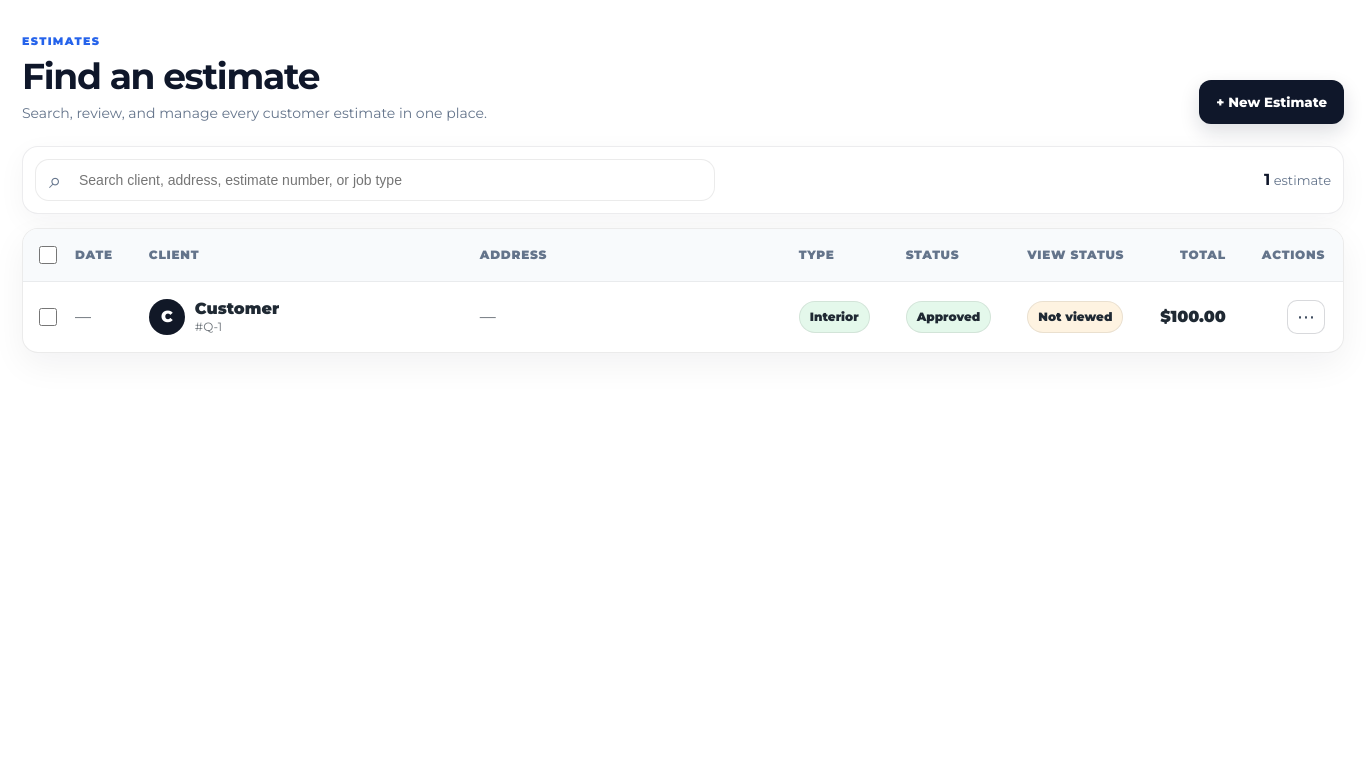
successful forwarding opens a confirmation showing the destination
Step 1. Click the checkbox named "Select all estimates shown" → (48, 255), box [39,246,57,264]
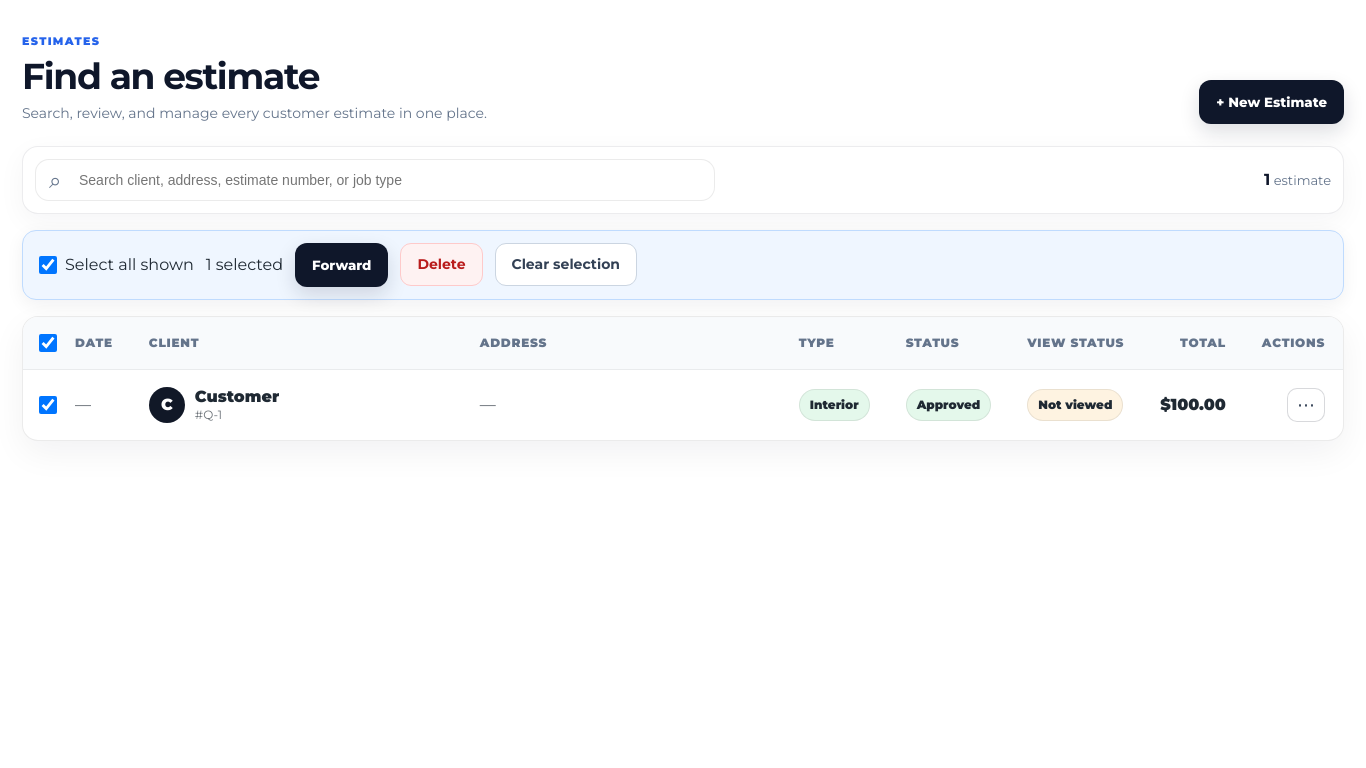
Step 2. Click the button "Forward" → (342, 265), box [295,243,388,287]
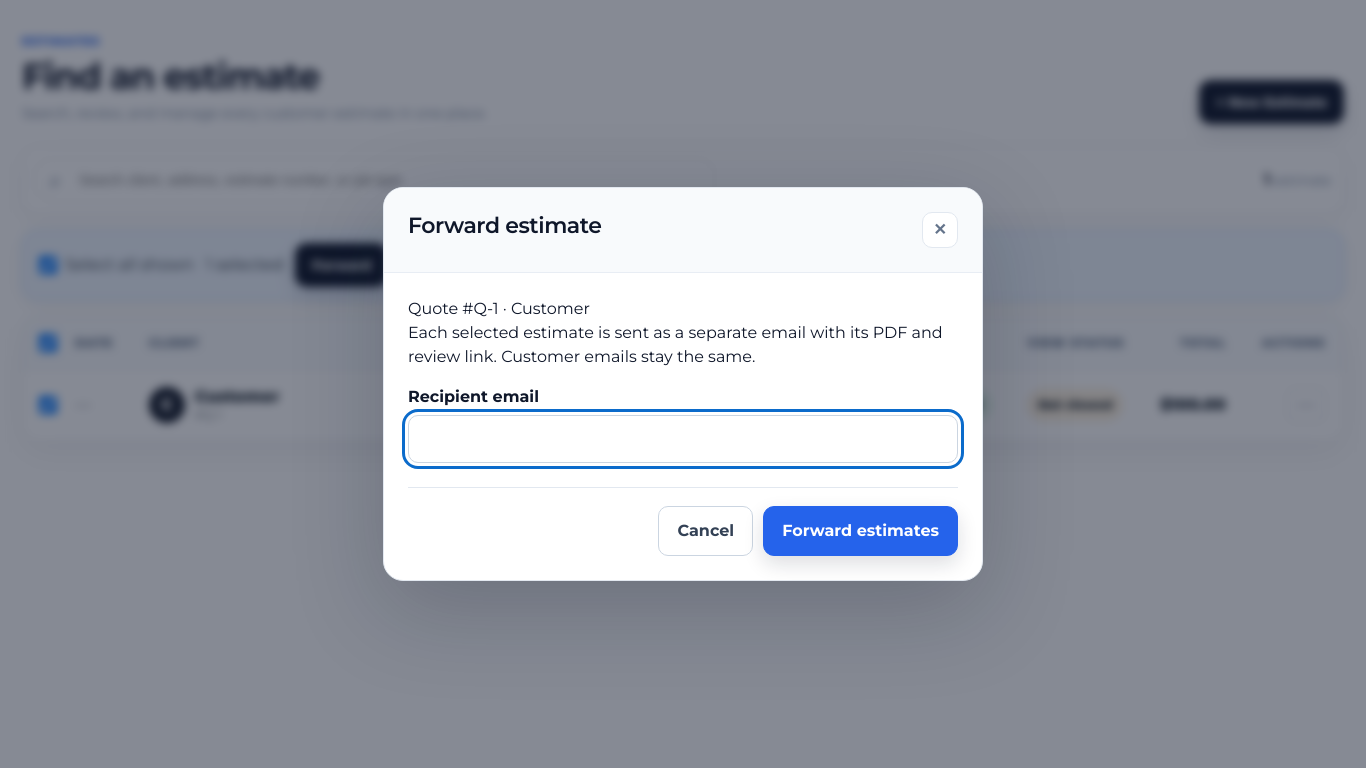
Step 3. Type "other@example.com" into the field labelled "Recipient email" → (683, 439), box [408,415,958,463]
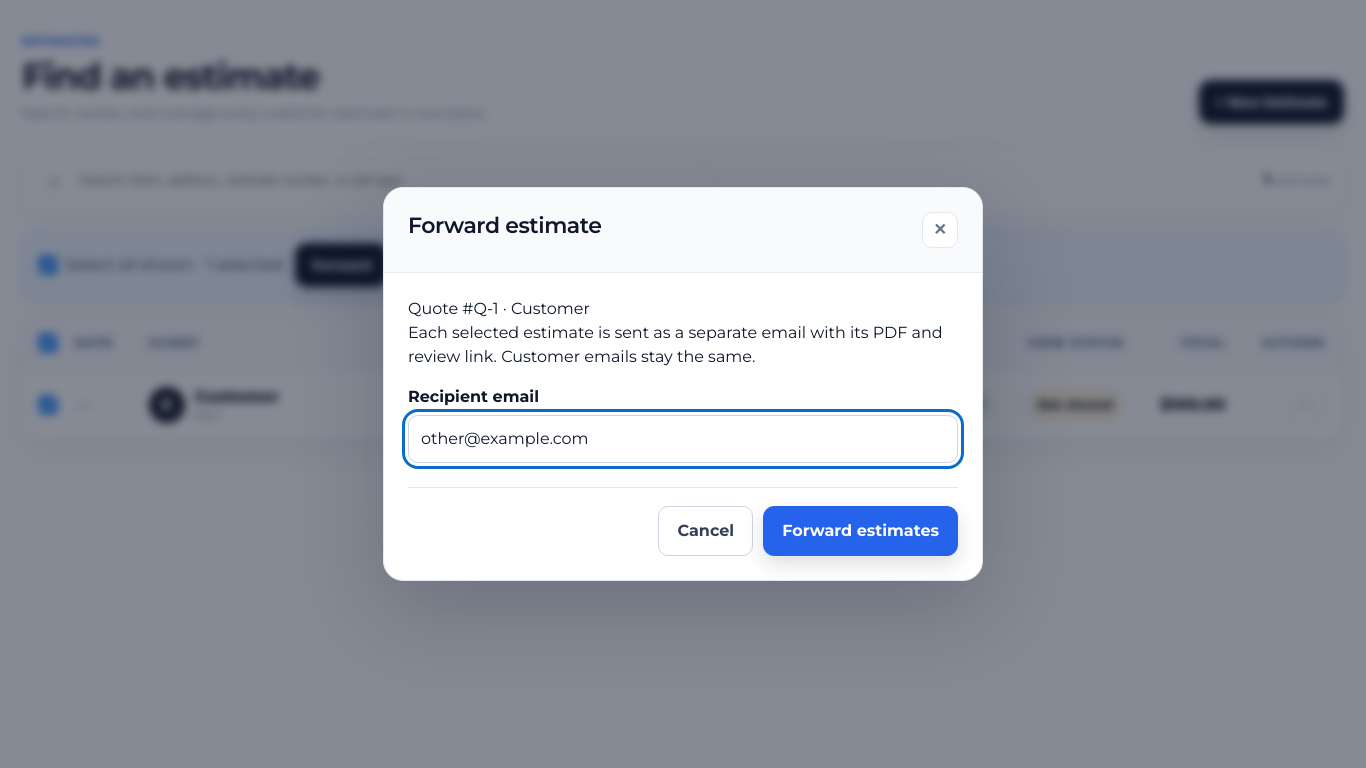
Step 4. Click the button "Forward estimates" → (861, 531), box [763,506,958,556]
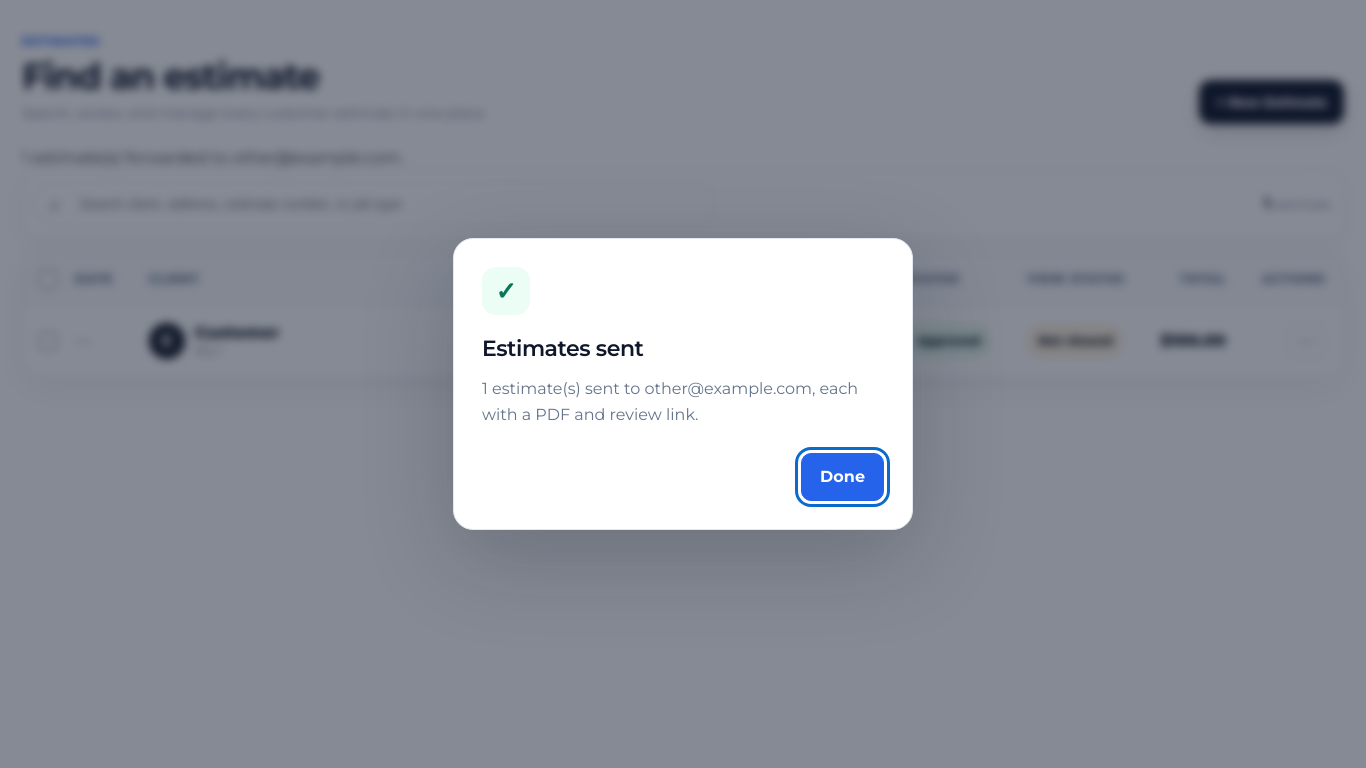
Now the dialog "Estimates sent" is shown, box [453,238,913,530]
Now the text "1 estimate(s) sent to other@example.com, each with a PDF and review link." is shown, box [482,376,884,429]
